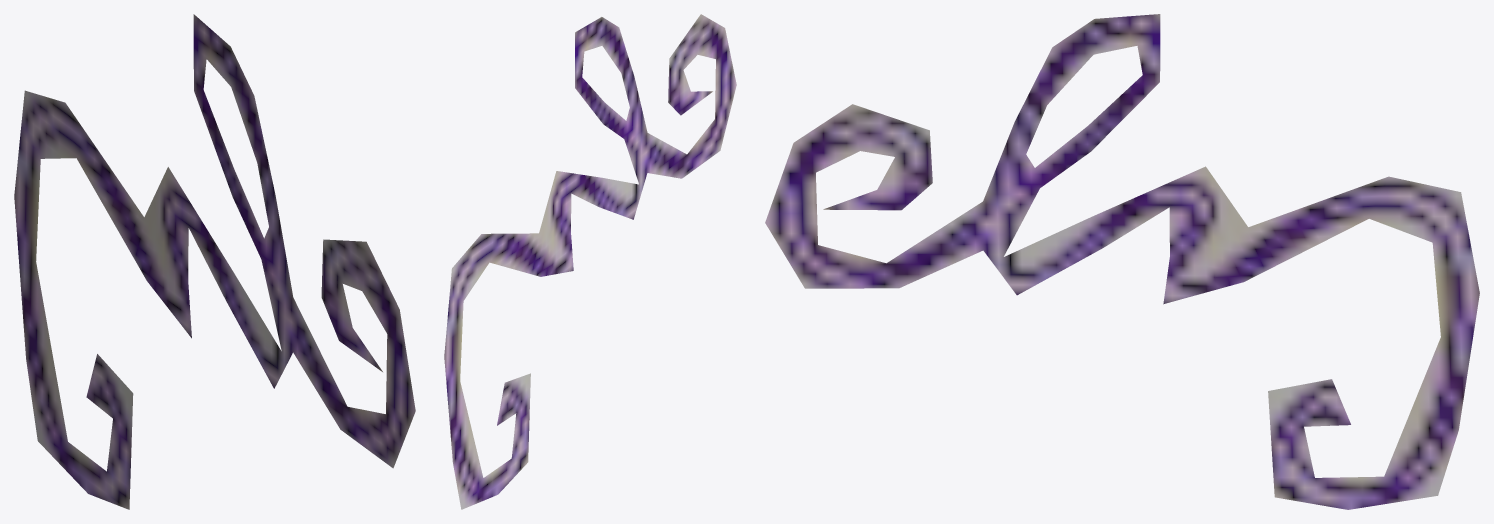
3 renders of one model, left to right at view 1: azimuth 30°, elevation 25°; view 2: azimuth 150°, elevation 25°; view 3: azimuth 270°, elevation 25°, orthographic. The views are drawn at different scales.
Parts seen in each view (by area): view 1: Picsart_22-01-21_15-37-57-171.001; view 2: Picsart_22-01-21_15-37-57-171.001; view 3: Picsart_22-01-21_15-37-57-171.001.
Part boxes in pixels (left/top/right/bottom): Picsart_22-01-21_15-37-57-171.001: left=14, top=14, right=415, bottom=509; Picsart_22-01-21_15-37-57-171.001: left=444, top=14, right=736, bottom=509; Picsart_22-01-21_15-37-57-171.001: left=765, top=14, right=1479, bottom=509.
Size of the model in its own units: 2.09e-07 by 1.14 by 1.49.
Materials: 1 (1 with a texture image).
